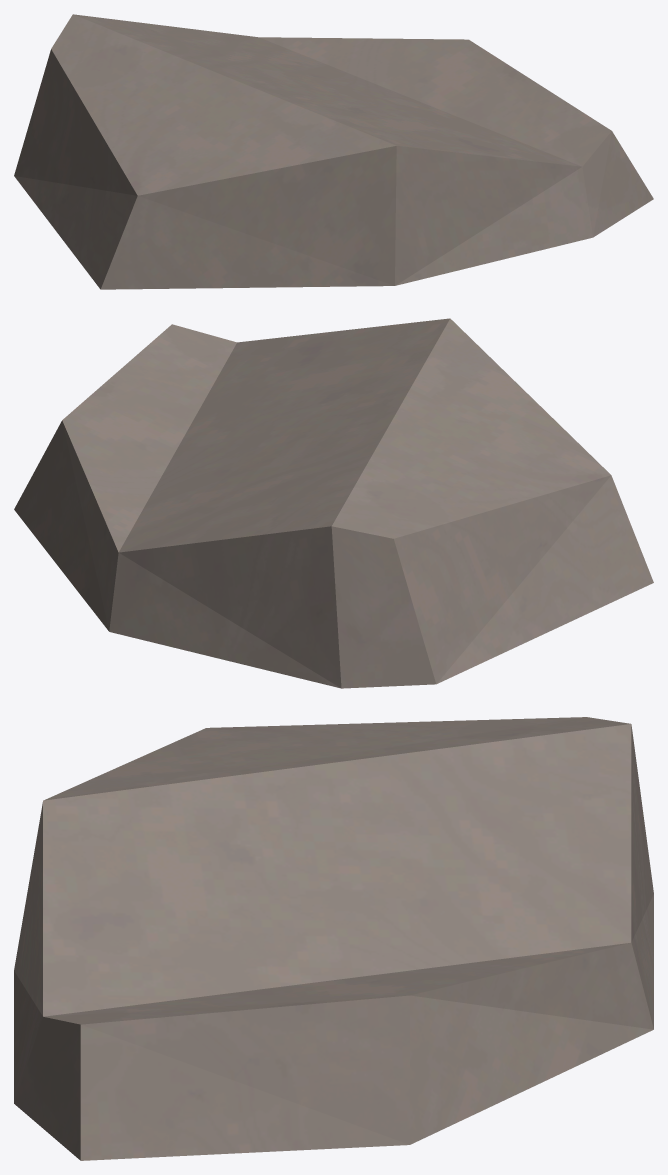
Rendered from Stone04.fbx.
3 renders of one model, top to bottom at view 1: azimuth 30°, elevation 25°; view 2: azimuth 150°, elevation 25°; view 3: azimuth 270°, elevation 25°, orthographic. The views are drawn at different scales.
Parts seen in each view (by area): view 1: SM_ENV_Nature_GeneralFoliageSet_Stone07.mo; view 2: SM_ENV_Nature_GeneralFoliageSet_Stone07.mo; view 3: SM_ENV_Nature_GeneralFoliageSet_Stone07.mo.
Boxes of the visible parts, box(x1,y1,x2,y2) form: SM_ENV_Nature_GeneralFoliageSet_Stone07.mo: box(14, 14, 653, 289); SM_ENV_Nature_GeneralFoliageSet_Stone07.mo: box(14, 318, 653, 688); SM_ENV_Nature_GeneralFoliageSet_Stone07.mo: box(14, 717, 653, 1160).
Size of the model in its own units: 61.84 by 15.3 by 49.03.
Materials: 1 (1 with a texture image).
